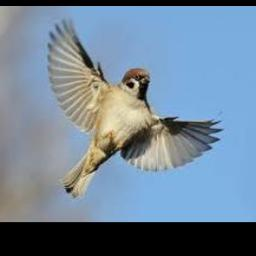Sparrow: (48, 17, 224, 199)
